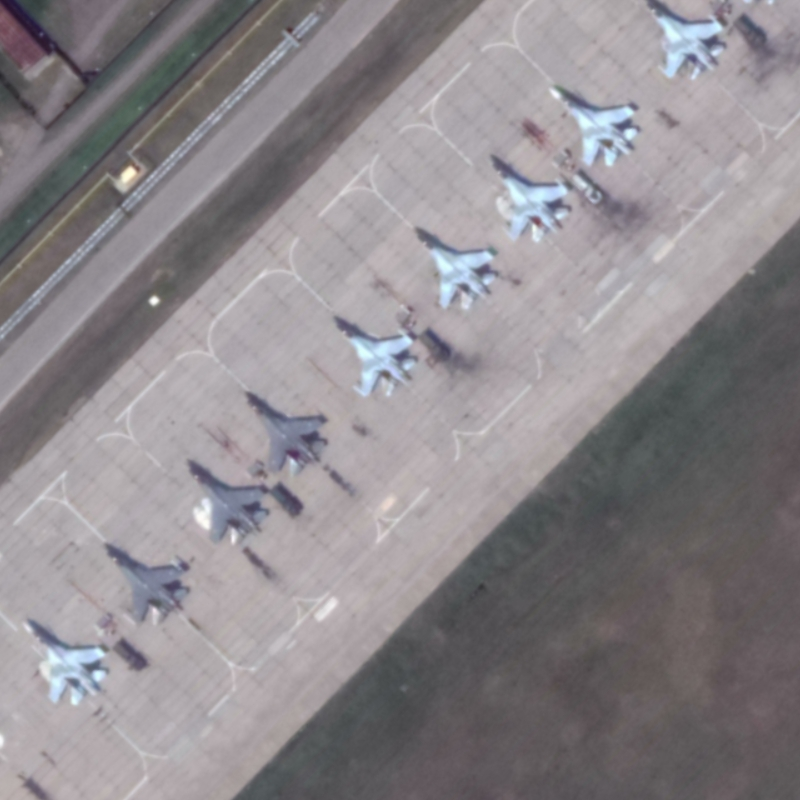A1: (544, 83, 640, 169), (20, 619, 109, 707), (484, 156, 571, 244), (102, 546, 190, 628), (243, 395, 328, 478), (412, 229, 498, 311), (641, 1, 727, 82), (185, 465, 270, 546), (332, 319, 418, 398)
